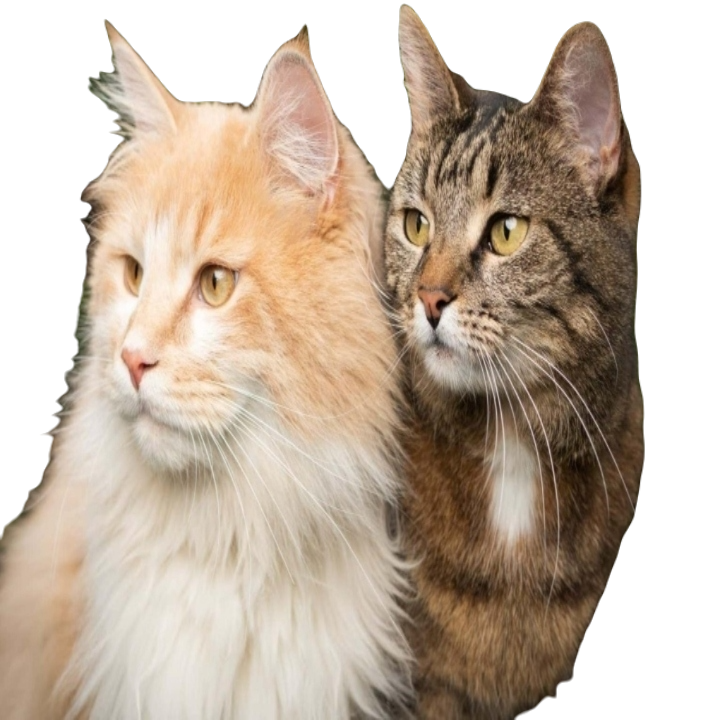Cat: (0, 16, 383, 716), (389, 0, 640, 720)
